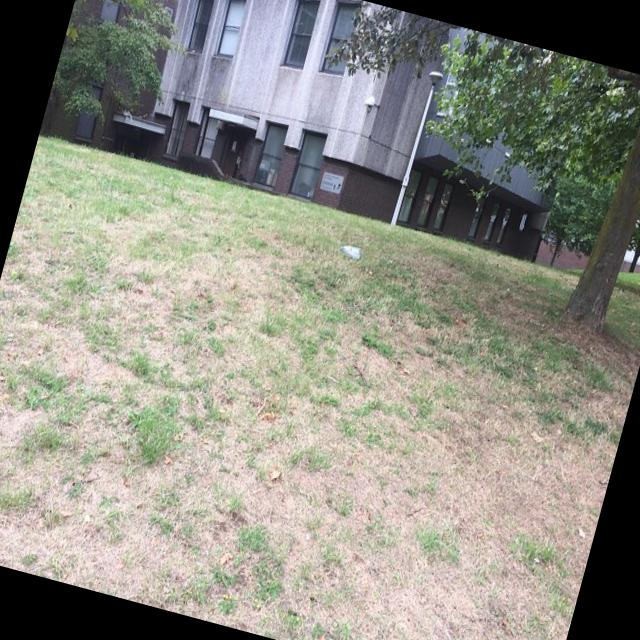Trash: (334, 232, 366, 262)
